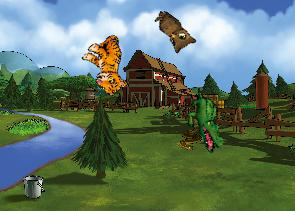crocodile: (173, 86, 238, 155)
owl: (145, 8, 199, 58)
tiger: (75, 29, 143, 99)
